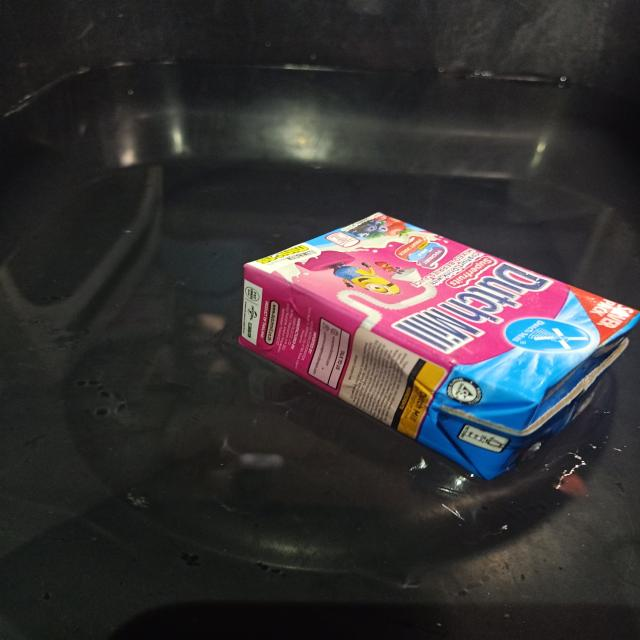Cardboard Box: (241, 213, 640, 438)
